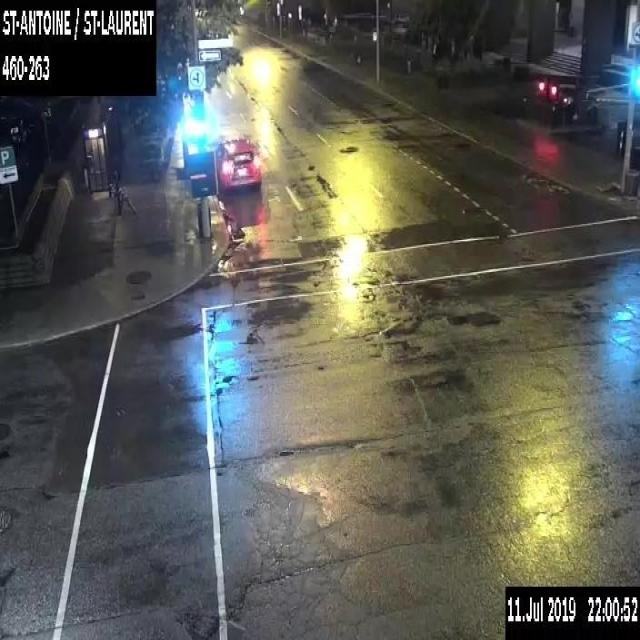vehicle: (215, 136, 262, 192)
